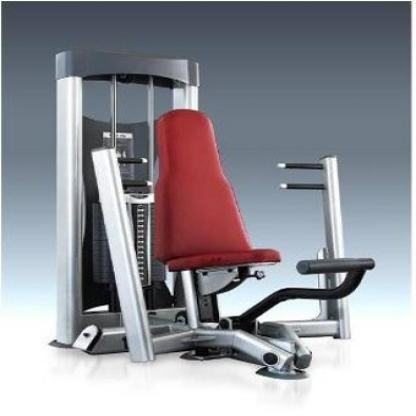Chest Press machine: (39, 37, 393, 390)
